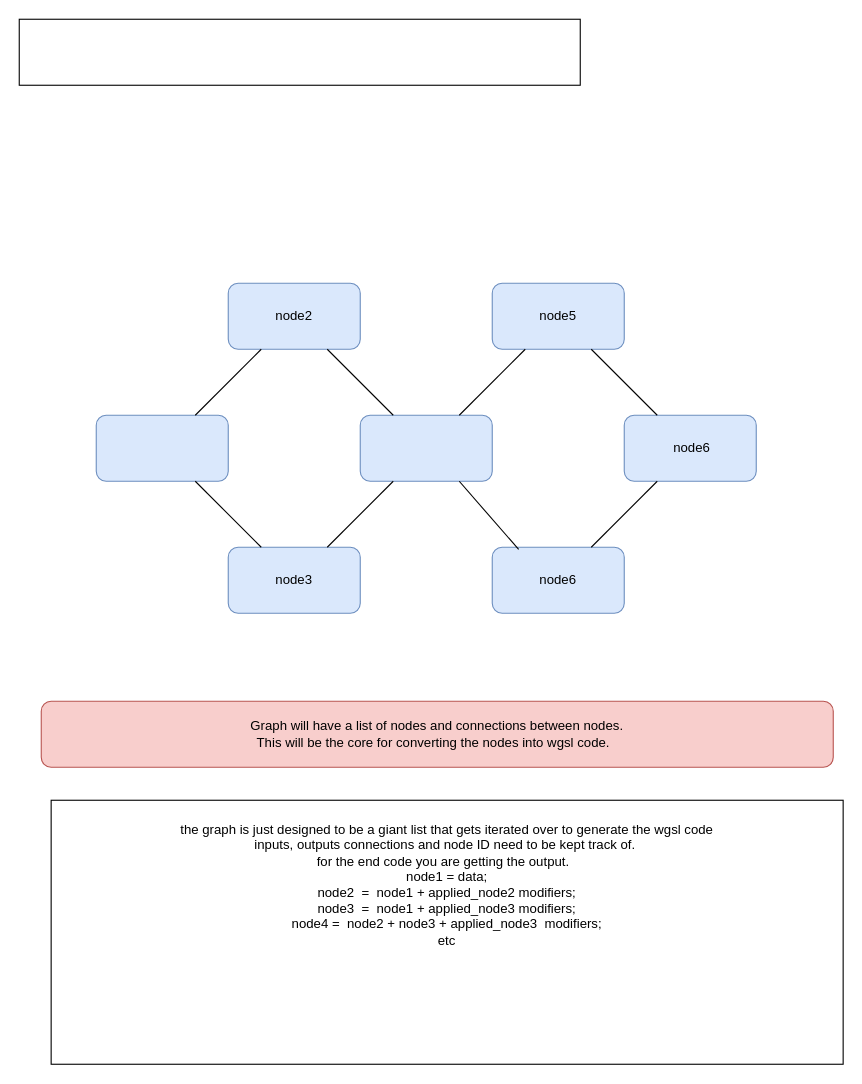
This 862x1084 diagram has some shape labels left out. The shapes that lost their labels are listed below. From the top down, each one's box as (x1, y1, x2, y2) in pixels, then its label:
(18, 18, 580, 85): Graph Data Structure design
(95, 414, 228, 481): Node1
(359, 414, 492, 481): node4
